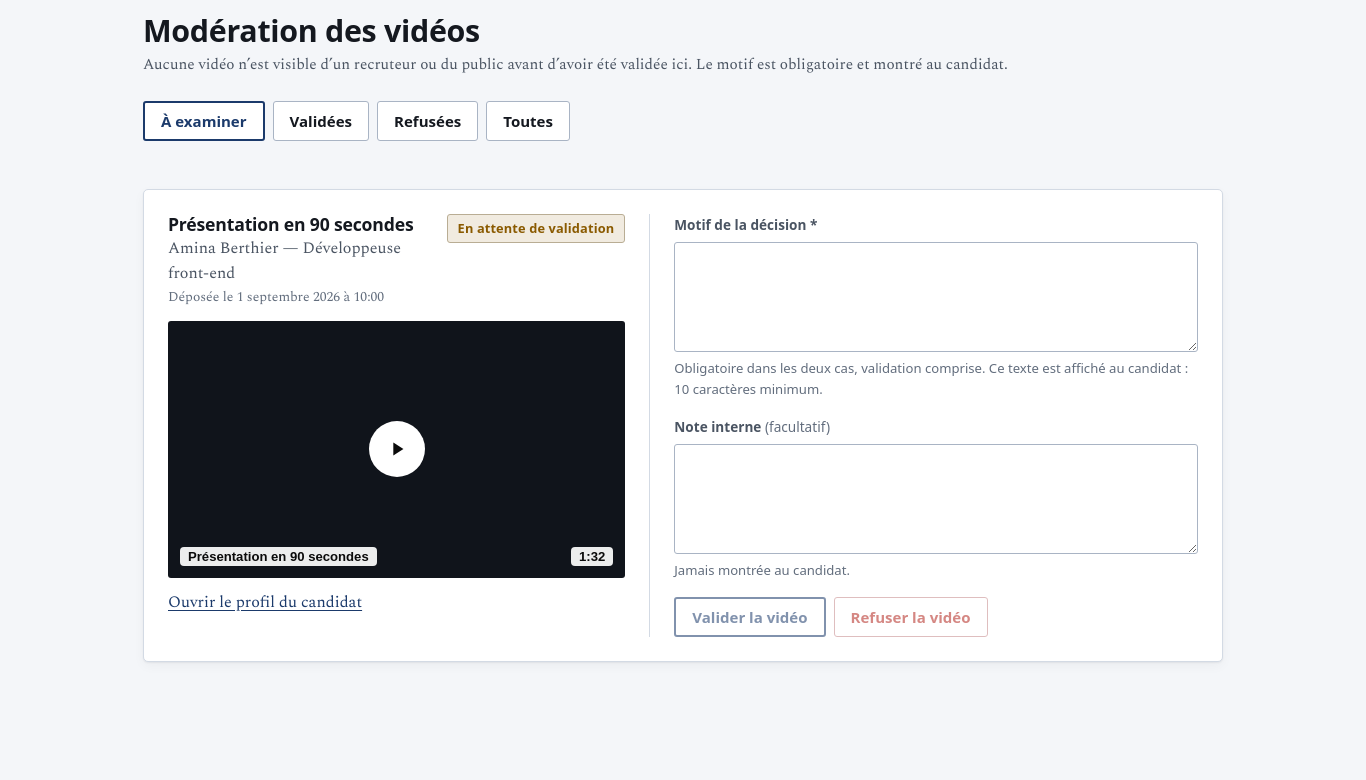
Test: VideoModerationPage › refuses both decisions until a reason is written
Expected: the heading "Présentation en 90 secondes" is shown, [168, 214, 435, 236]
Expected: the button "Valider la vidéo" is disabled, [674, 597, 826, 637]
Type "court" into the text box labelled "Motif de la décision *".
click(936, 297); type("court")  # box [674, 242, 1198, 352]
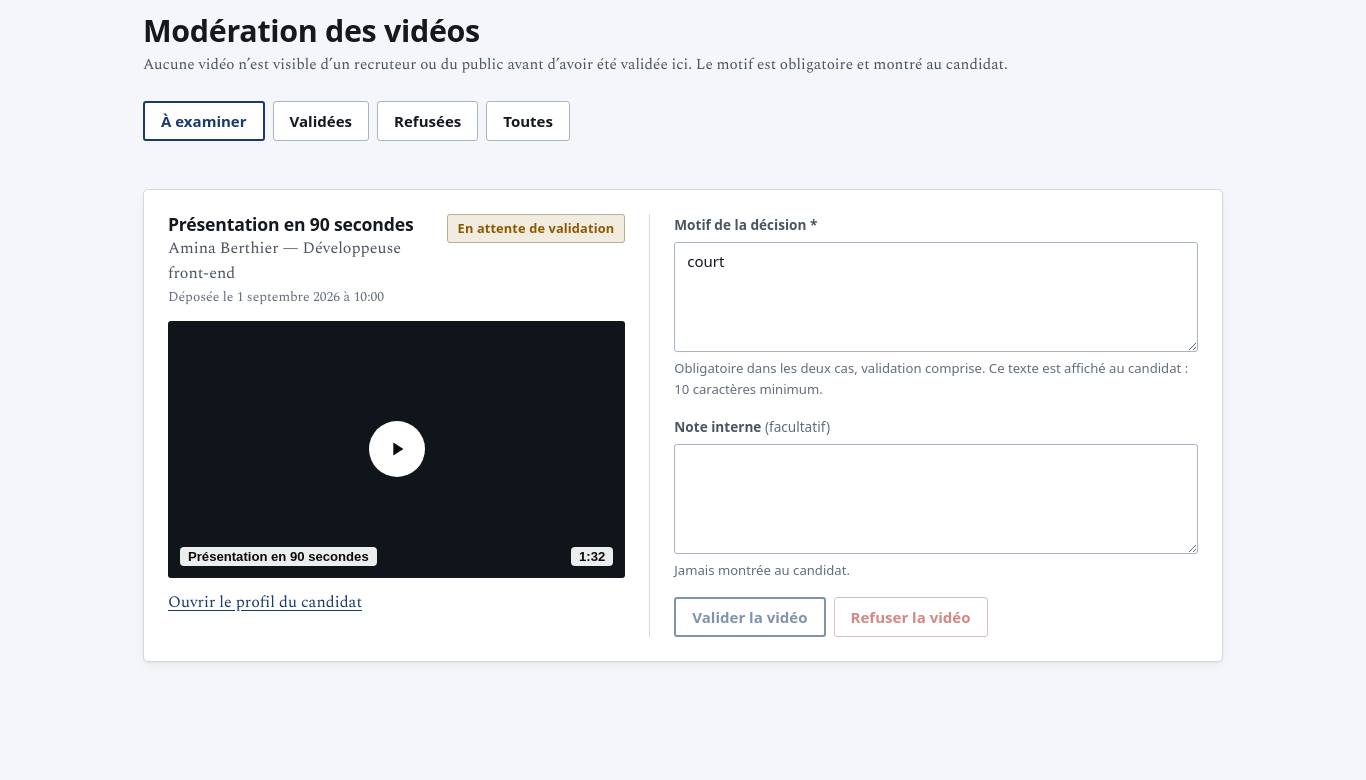
Expected: the button "Refuser la vidéo" is disabled, [834, 597, 988, 637]
Replace the text in the text box labelled "Motif de la décision *" with "un motif assez long pour être utile" at {"x": 936, "y": 297}, box [674, 242, 1198, 352]
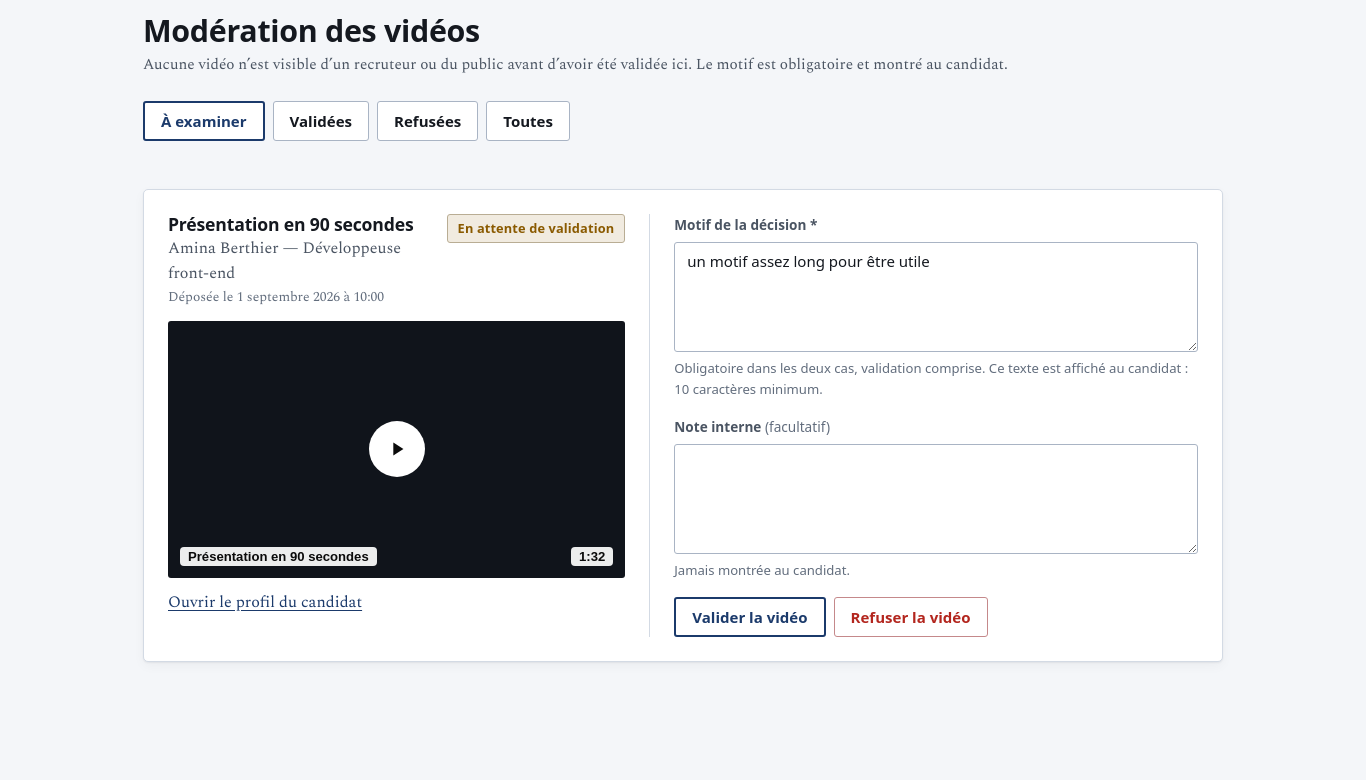
Expected: the button "Refuser la vidéo" is enabled, [834, 597, 988, 637]
Expected: the button "Valider la vidéo" is enabled, [674, 597, 826, 637]
